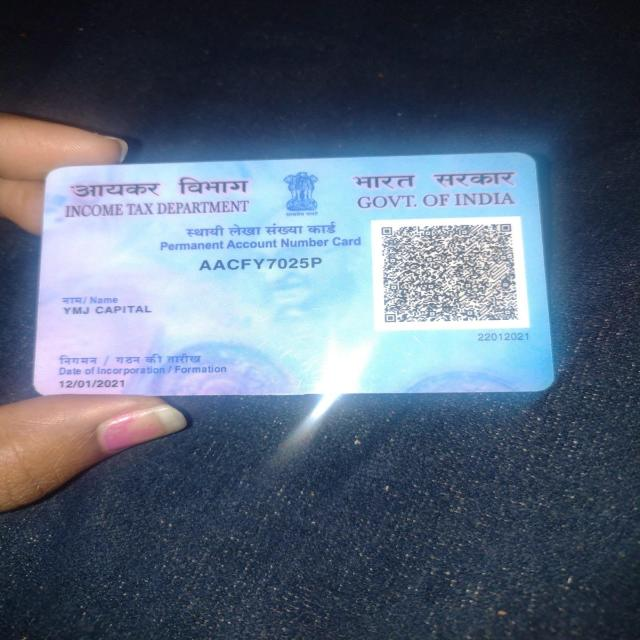pan_card: (27, 152, 558, 394)
